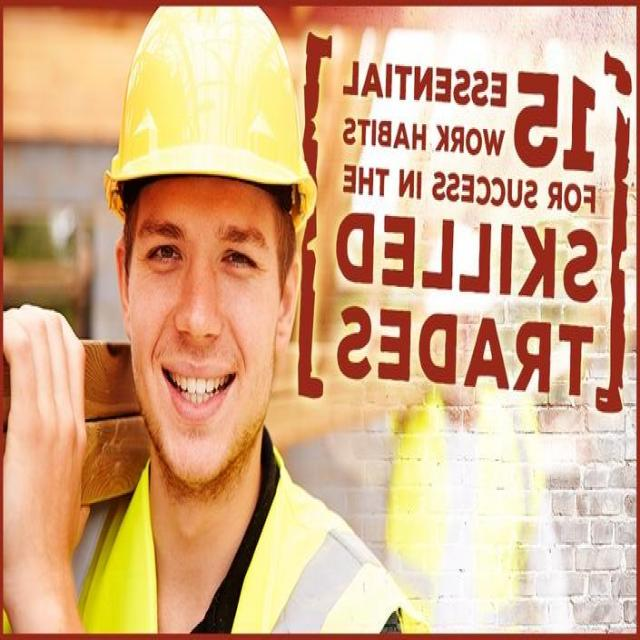Reflective-Jacket: (78, 460, 410, 638)
Safety-Helmet: (105, 8, 315, 206)
